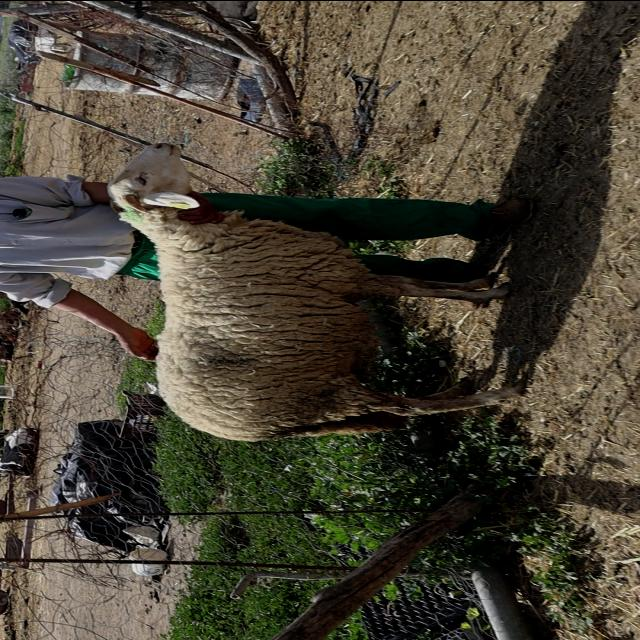Score_3: (107, 143, 525, 441)
